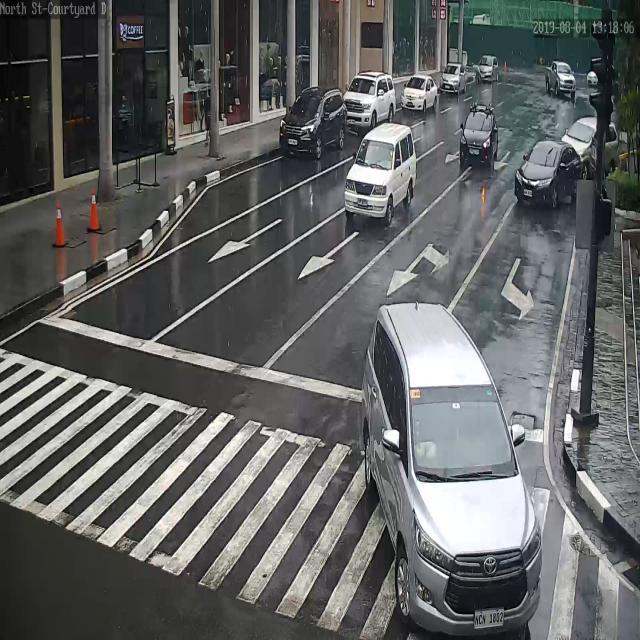car: (361, 302, 542, 632), (344, 123, 417, 223), (279, 85, 348, 157), (515, 139, 581, 206), (562, 116, 619, 179), (343, 74, 396, 133), (460, 102, 498, 165), (401, 73, 438, 114), (545, 61, 577, 98), (440, 61, 467, 94), (476, 56, 498, 82)
